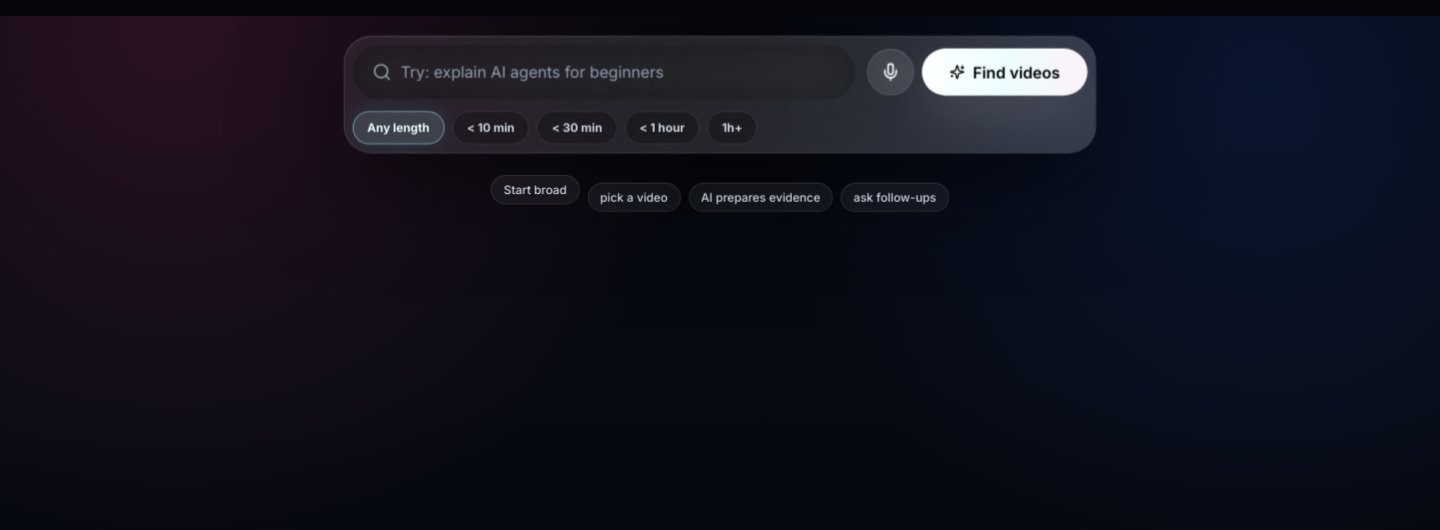
Scenario: SearchConsole – voice input › Whisper fallback › shows recording timer while Whisper is active
This screenshot has width=1440, height=530.
What coordinates should you click on to do the following:
click the button named "start voice search"
I would click on:
 (890, 72)
Its box is [867, 48, 914, 95].
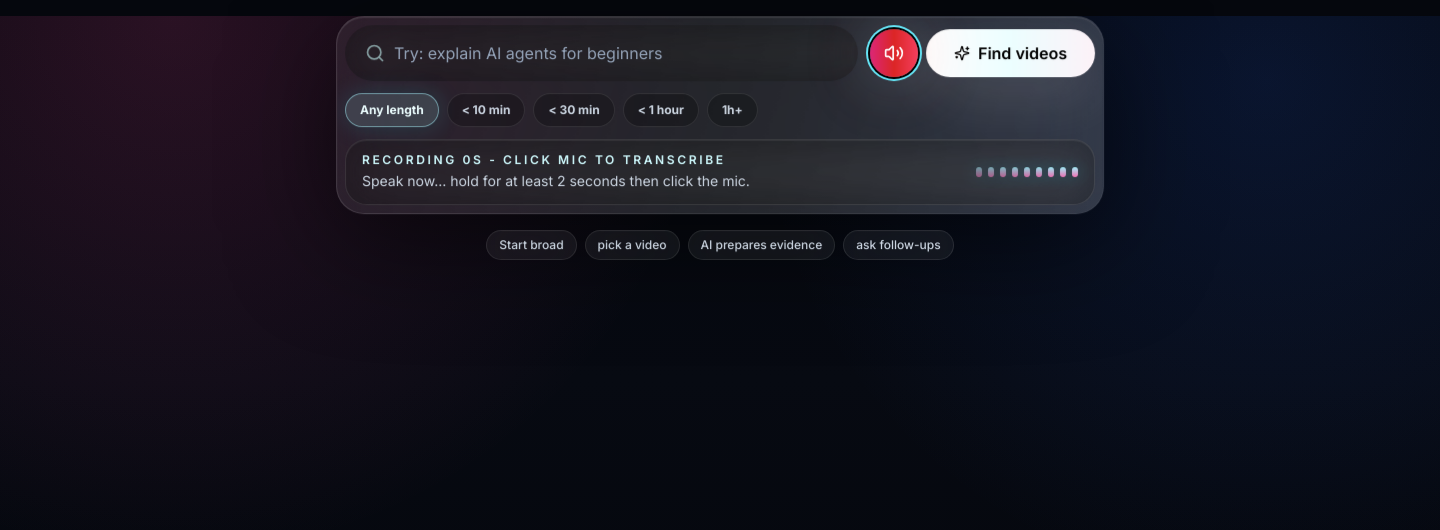
Check: the text "Recording 0s - click mic to transcribe" is shown, box [362, 152, 750, 168]
